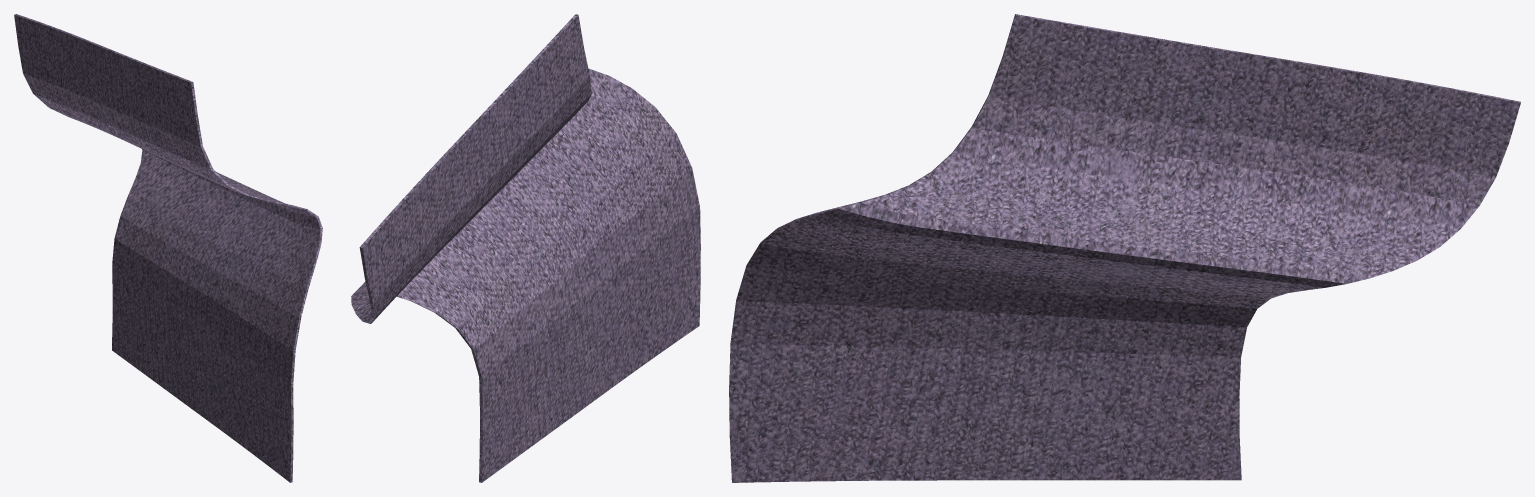
File: flag.obj
The picture shows the model from 3 angles, left to right: view 1: azimuth 30°, elevation 25°; view 2: azimuth 150°, elevation 25°; view 3: azimuth 270°, elevation 25°; orthographic projection. The views are drawn at different scales.
Parts seen in each view (by area): view 1: Grid; view 2: Grid; view 3: Grid.
Part boxes in pixels (x1,y1,x2,y2): Grid: [14, 14, 322, 482]; Grid: [351, 14, 700, 482]; Grid: [729, 14, 1520, 482].
Bounding box in the file's own units: 8.08 × 38.61 × 59.22.
